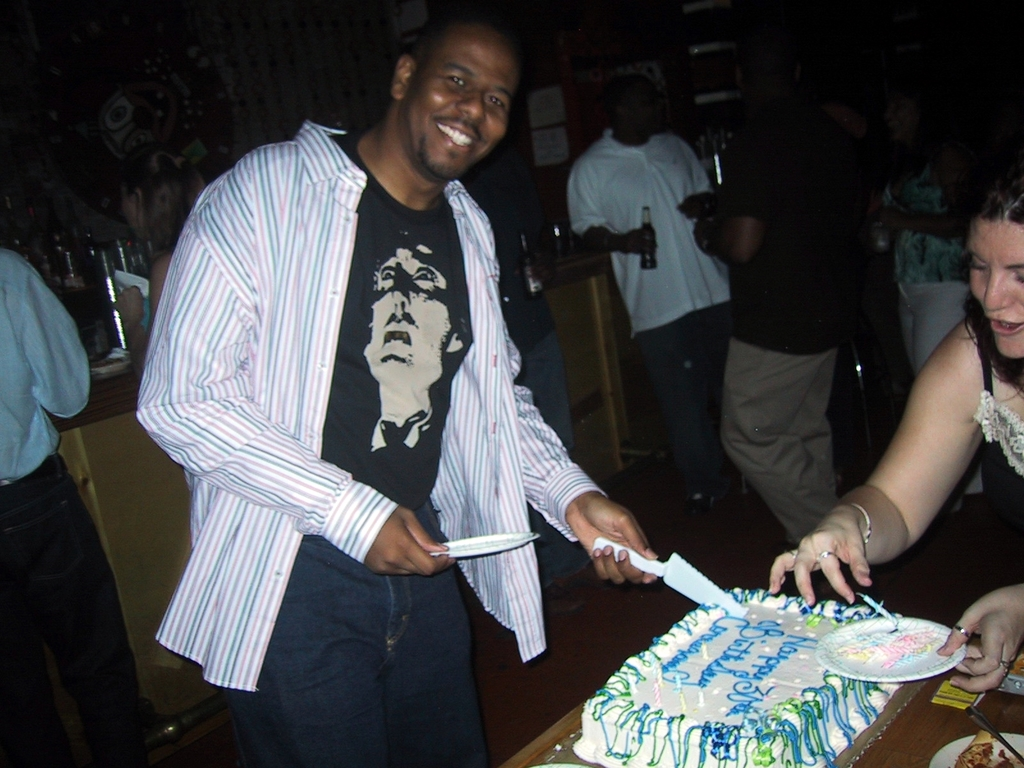cake: (572, 587, 903, 764)
